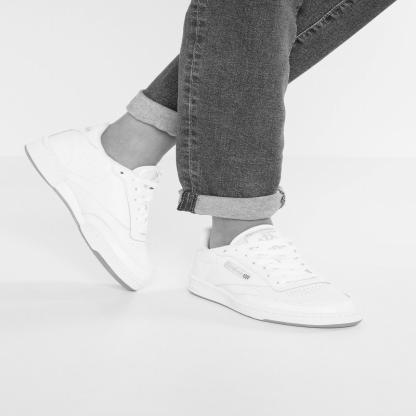ankle: (213, 250, 216, 252), (114, 161, 116, 163)
heel: (192, 271, 195, 274), (50, 137, 53, 139)
left_foot: (26, 122, 158, 292)
pinky: (291, 309, 293, 311), (147, 266, 150, 267)
right_foot: (189, 226, 363, 329)
toe: (133, 273, 135, 276), (349, 300, 352, 302)
